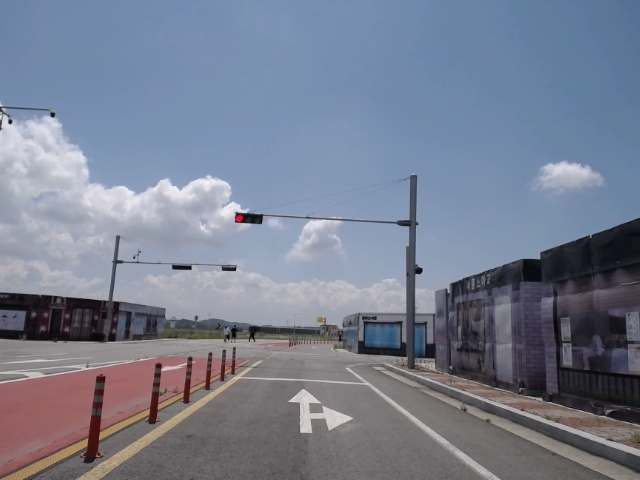red_3: (234, 211, 265, 225)
